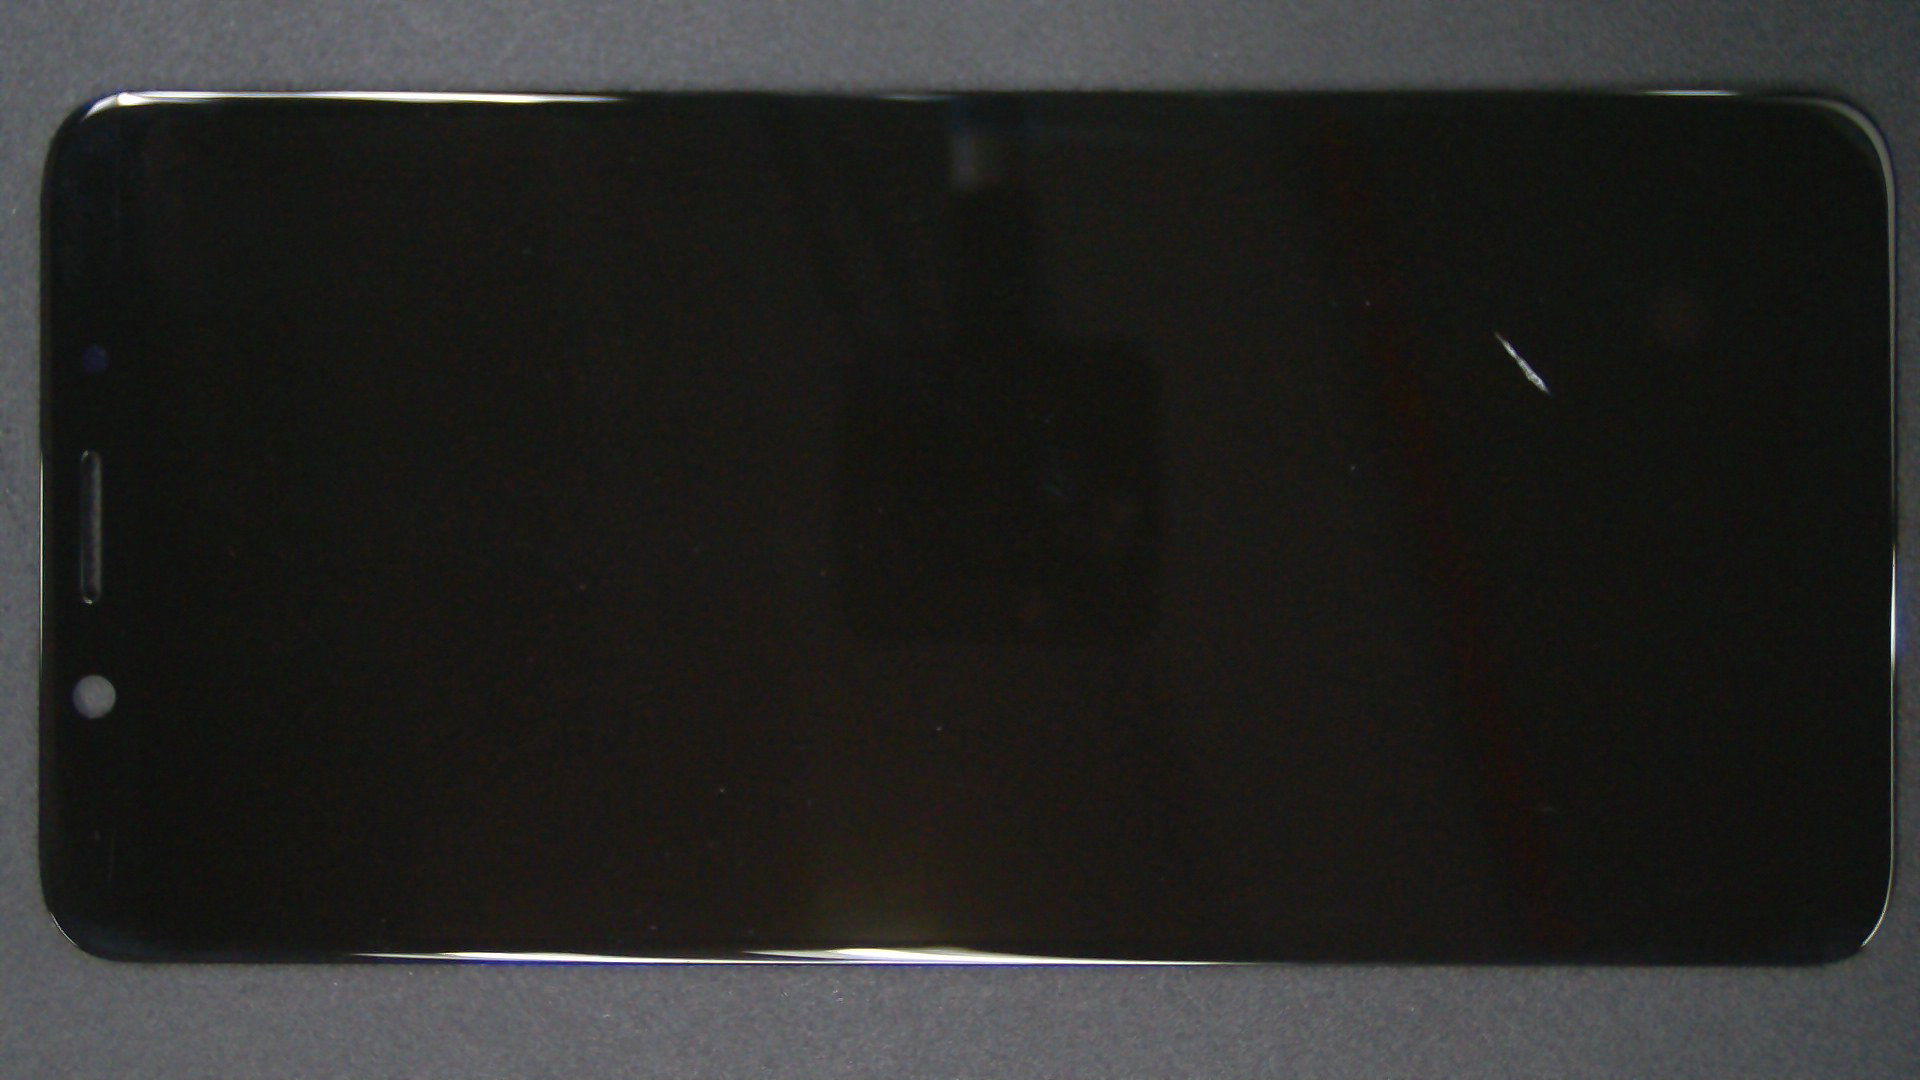defect: (1494, 331, 1549, 394)
